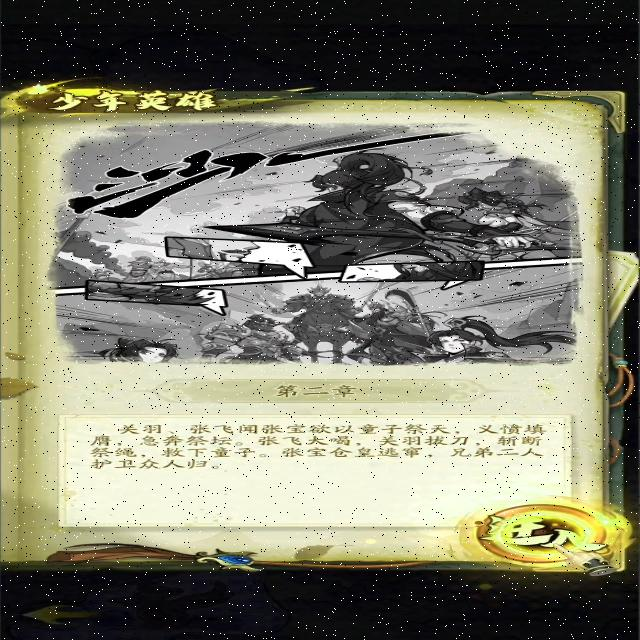hint-guide: (453, 493, 633, 578)
operation-confirm: (474, 502, 626, 568)
